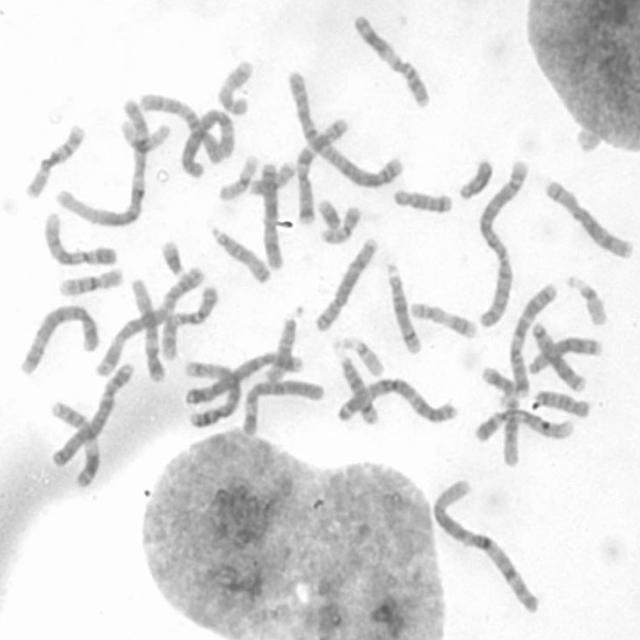A1: (428, 474, 543, 618), (52, 93, 151, 228)
A2: (284, 66, 406, 190), (473, 157, 532, 330)
A3: (90, 262, 210, 378), (333, 373, 459, 427)
B4: (48, 358, 136, 468), (185, 354, 302, 406)
B5: (17, 300, 100, 378), (181, 357, 243, 431)
C10: (134, 90, 230, 165), (158, 282, 221, 359)
C11: (348, 10, 434, 111), (47, 398, 102, 490)
C12: (478, 361, 522, 468), (128, 277, 166, 383)
C6: (239, 374, 326, 440), (179, 108, 240, 175)
C7: (292, 114, 351, 226), (504, 279, 559, 397)
C8: (542, 176, 636, 261), (311, 235, 381, 332)
C9: (40, 208, 120, 267), (470, 406, 577, 444)
D13: (526, 325, 592, 385), (523, 332, 604, 376)
D14: (382, 260, 424, 356), (334, 341, 381, 424)
D15: (206, 222, 274, 286), (262, 301, 306, 384)
E16: (22, 120, 87, 200), (56, 264, 125, 298)
E17: (406, 298, 479, 341), (214, 56, 255, 116)
E18: (389, 184, 454, 216), (532, 387, 592, 419)
F19: (217, 152, 260, 202), (117, 116, 171, 153)
F20: (246, 158, 303, 197), (318, 202, 362, 245)
G21: (158, 235, 187, 279), (315, 196, 342, 232)
G22: (562, 270, 610, 328), (330, 334, 386, 378)
X: (256, 156, 285, 269)
Y: (457, 156, 494, 200)
